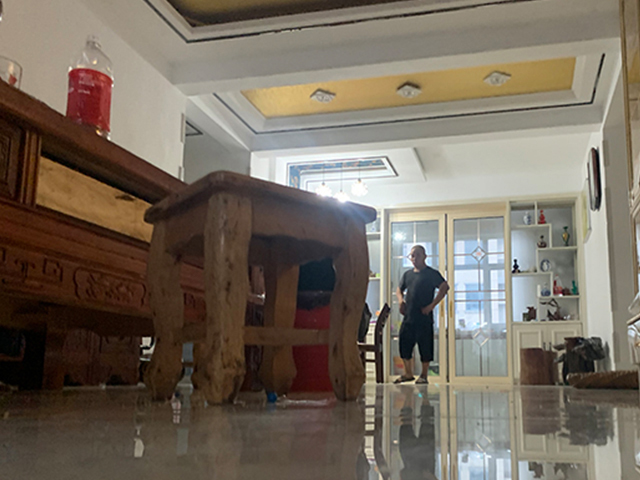stool: (142, 168, 379, 407)
table: (1, 78, 156, 392)
